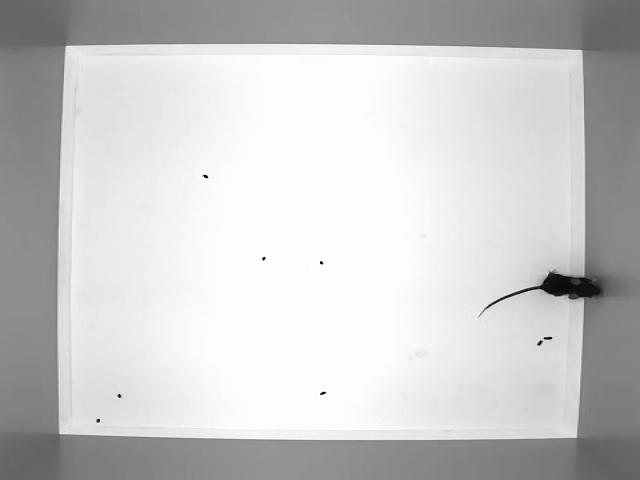Tikus: (475, 267, 606, 322)
